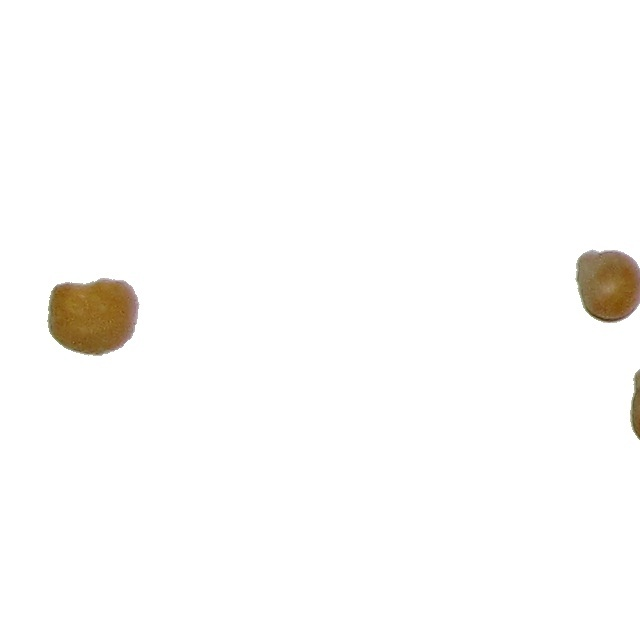mais: (46, 277, 141, 357), (574, 248, 640, 324), (629, 365, 640, 454)
